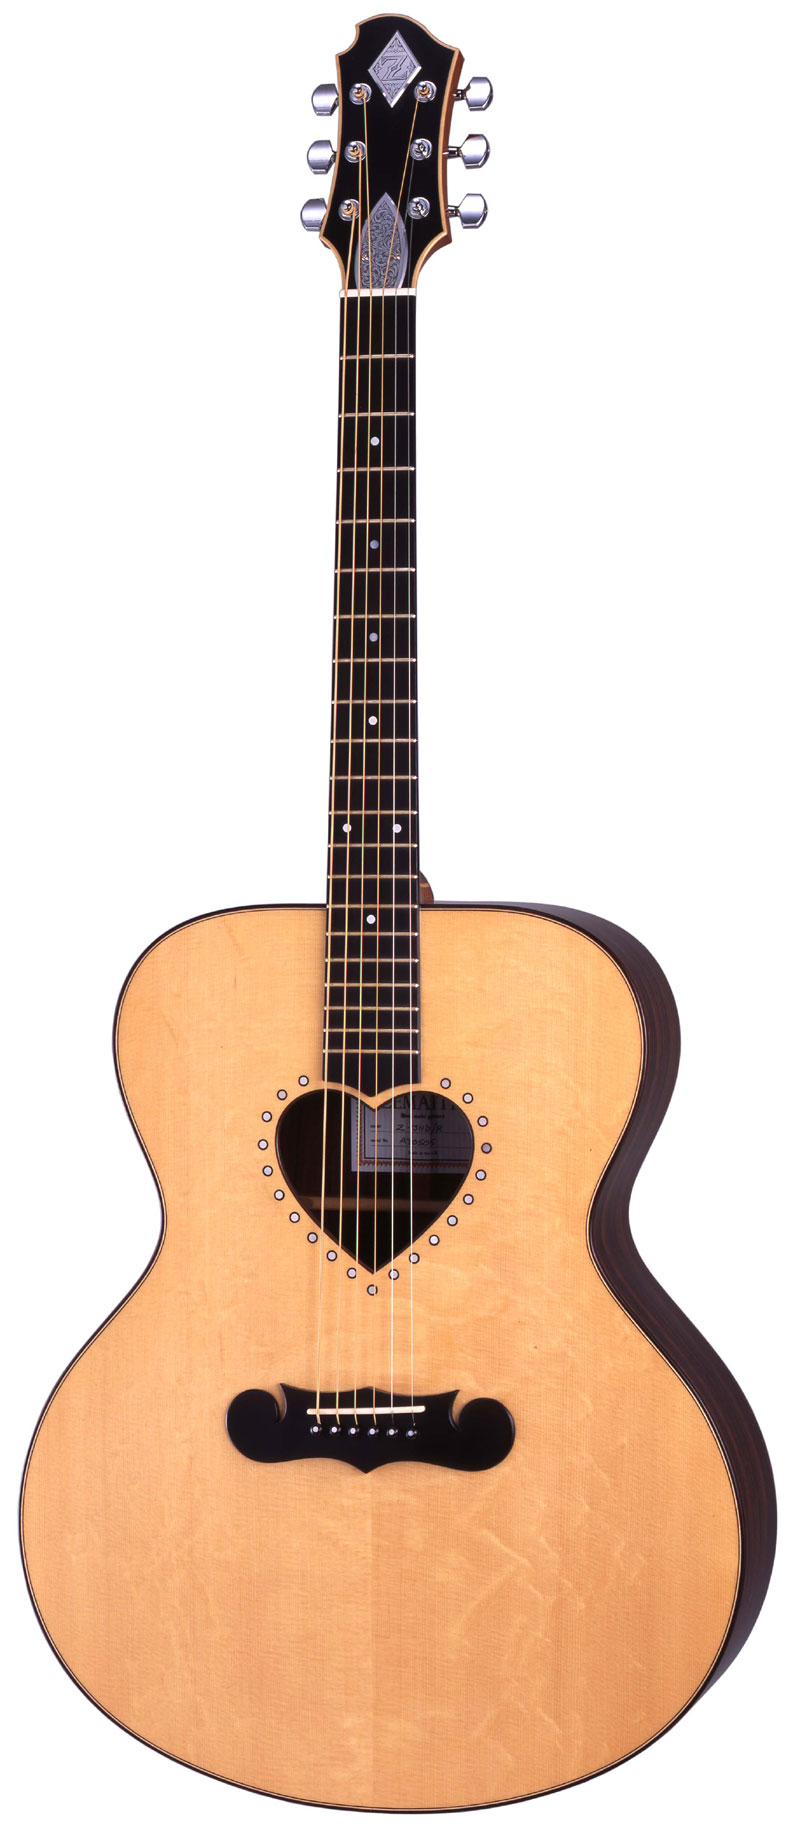guitar: (20, 16, 782, 1816)
